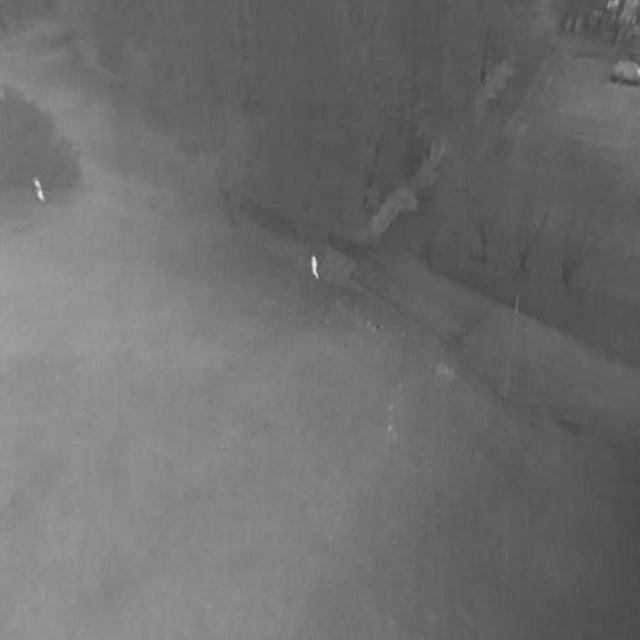person: (33, 179, 45, 205), (310, 255, 318, 281)
